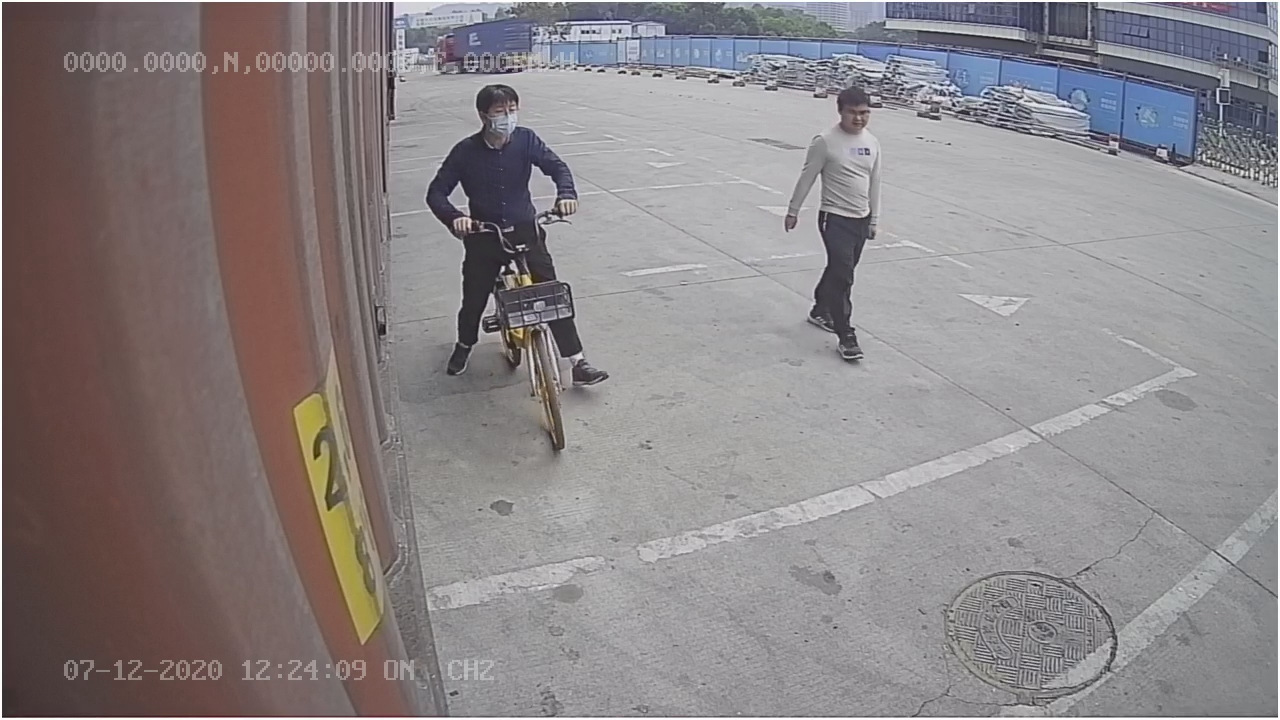person: (779, 80, 892, 369)
